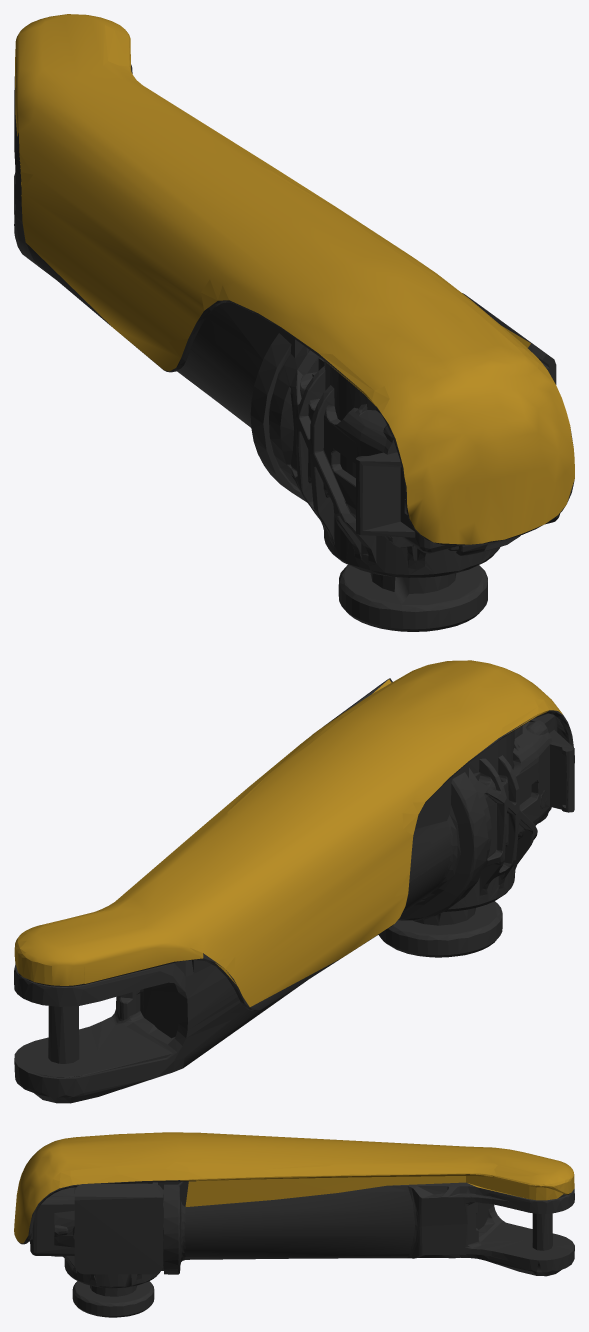
Rendered from front_left_upper_leg.glb.
3 renders of one model, top to bottom at view 1: azimuth 30°, elevation 25°; view 2: azimuth 150°, elevation 25°; view 3: azimuth 270°, elevation 25°, orthographic. The views are drawn at different scales.
Parts seen in each view (by area): view 1: front_left_upper_leg; view 2: front_left_upper_leg; view 3: front_left_upper_leg.
Boxes of the visible parts, x1,y1,x2,y2 form: front_left_upper_leg: (14,14,574,631); front_left_upper_leg: (14,660,574,1103); front_left_upper_leg: (14,1132,574,1317).
Size of the model in its own units: 0.1013 by 0.1323 by 0.4185.
